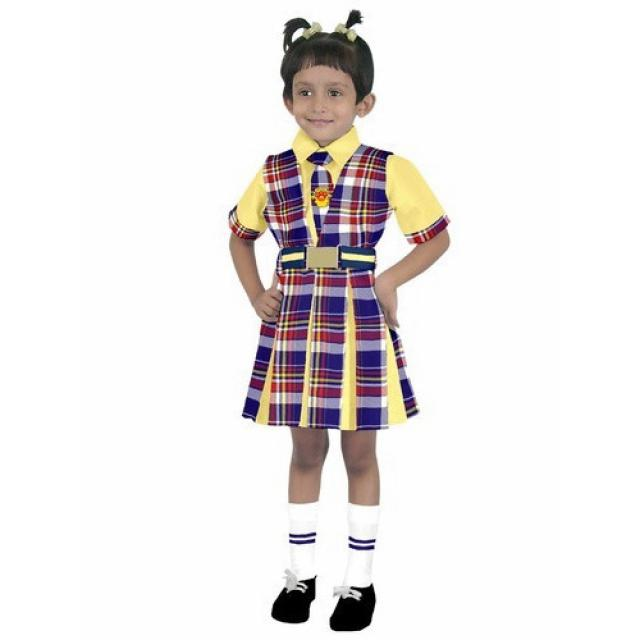child: (229, 9, 462, 636)
